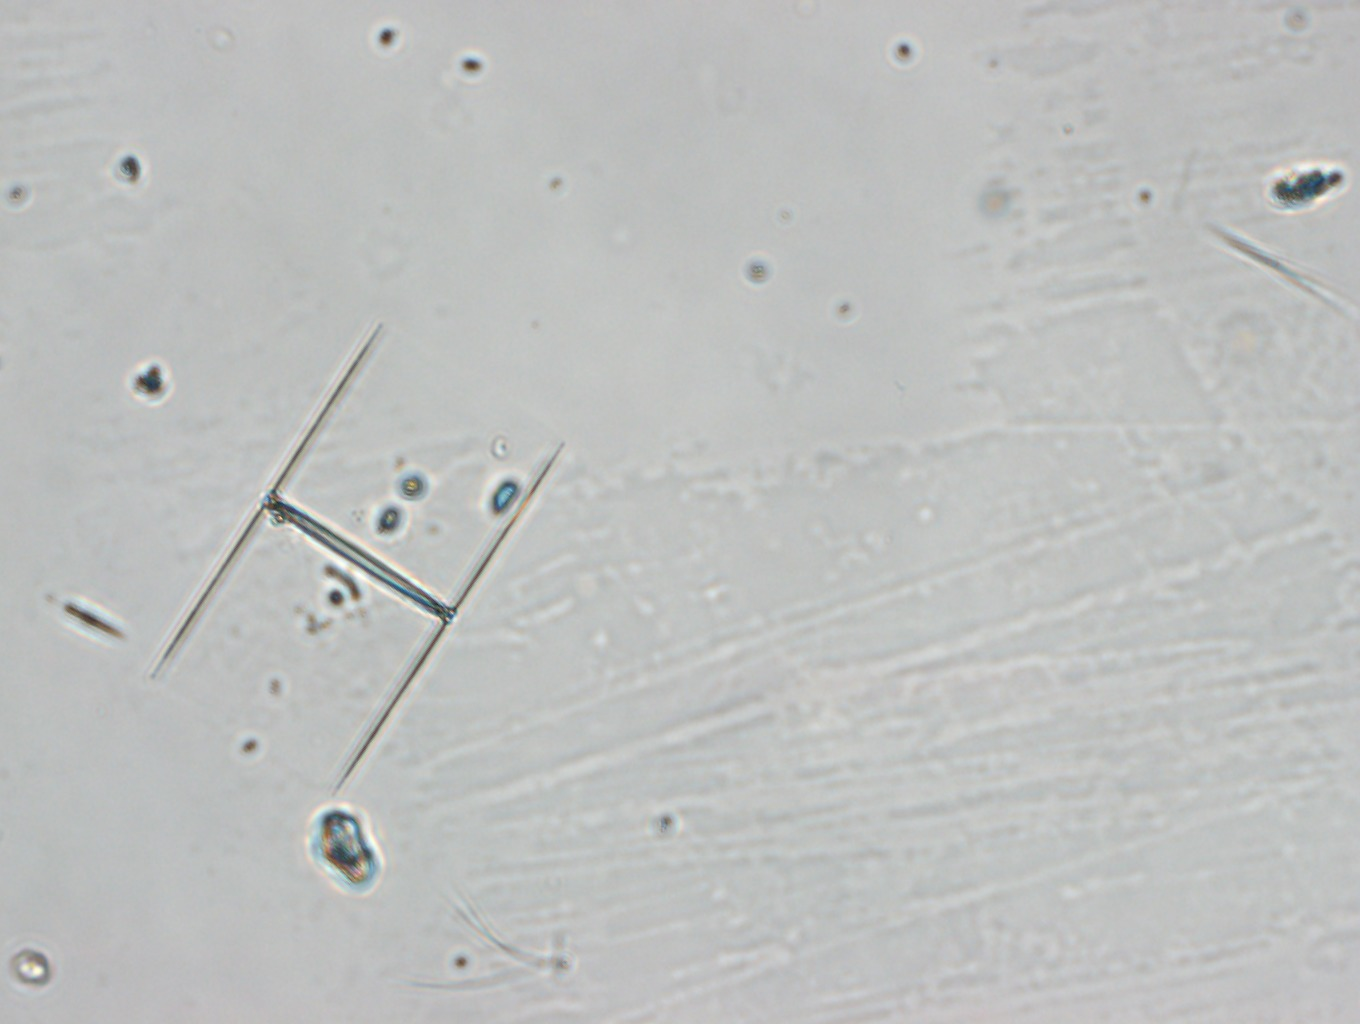guinardia flaccida: (154, 319, 563, 784)
